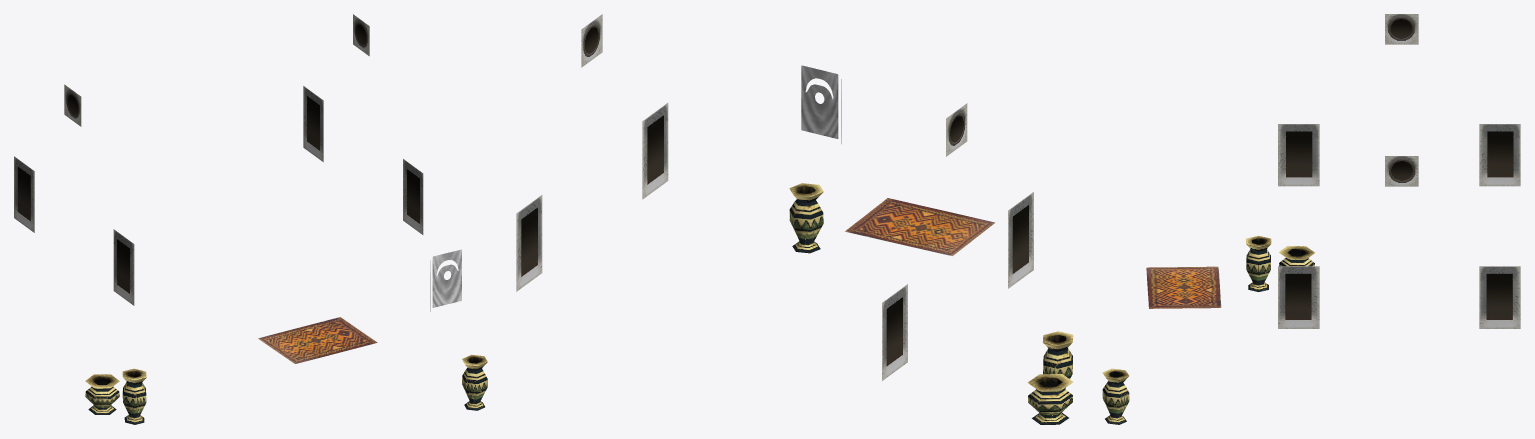
The model's file is kart_house_b_2.dae.
3 views of the same model, side by side, from view 1: azimuth 30°, elevation 25°; view 2: azimuth 150°, elevation 25°; view 3: azimuth 270°, elevation 25° (orthographic). The views are drawn at different scales.
Visible parts, largest first — view 1: Object12-Pivot; view 2: Object12-Pivot; view 3: Object12-Pivot.
Part boxes in pixels (left/top/right/bottom): Object12-Pivot: left=14, top=14, right=487, bottom=424; Object12-Pivot: left=516, top=14, right=1073, bottom=424; Object12-Pivot: left=1102, top=14, right=1520, bottom=424.
Size of the model in its own units: 11.2 by 12.37 by 9.07.
